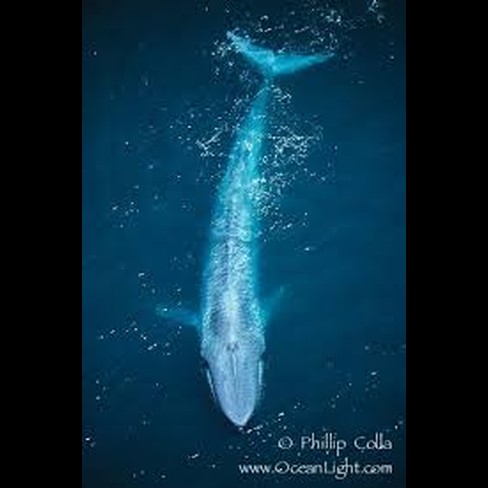bluewhale: (150, 25, 336, 436)
